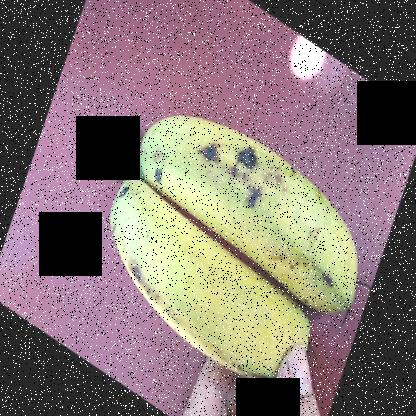ripe: (138, 89, 367, 315), (103, 199, 305, 398)
